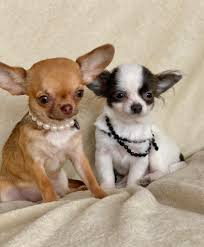Bulldog: (1, 49, 102, 211), (102, 73, 201, 191)
